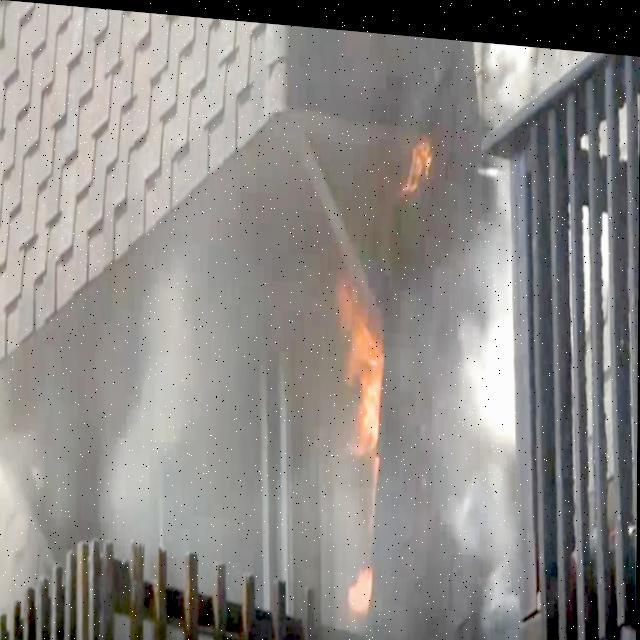Fire: (334, 247, 394, 628), (405, 124, 431, 200)
